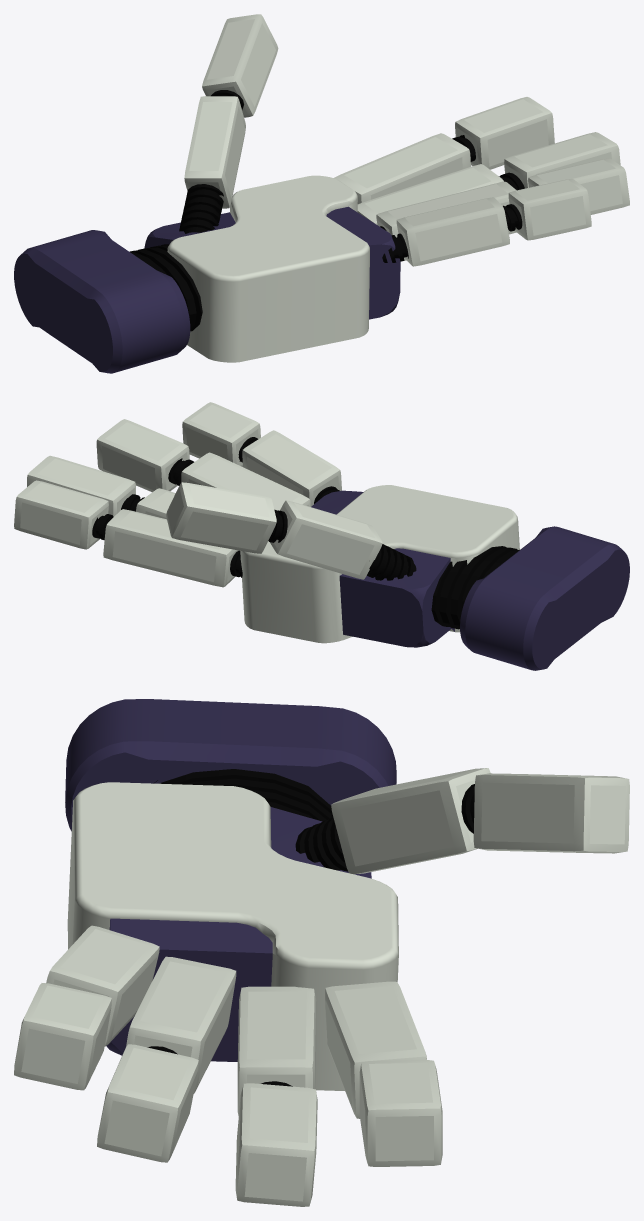
3 renders of one model, top to bottom at view 1: azimuth 30°, elevation 25°; view 2: azimuth 150°, elevation 25°; view 3: azimuth 270°, elevation 25°, orthographic. The views are drawn at different scales.
Parts seen in each view (by area): view 1: Wrist.001; view 2: Wrist.001; view 3: Wrist.001.
Part boxes in pixels (bbox=[...]): Wrist.001: bbox=[14, 14, 629, 373]; Wrist.001: bbox=[14, 402, 629, 670]; Wrist.001: bbox=[14, 699, 629, 1206].
Size of the model in its own units: 131 by 219 by 73.09.
